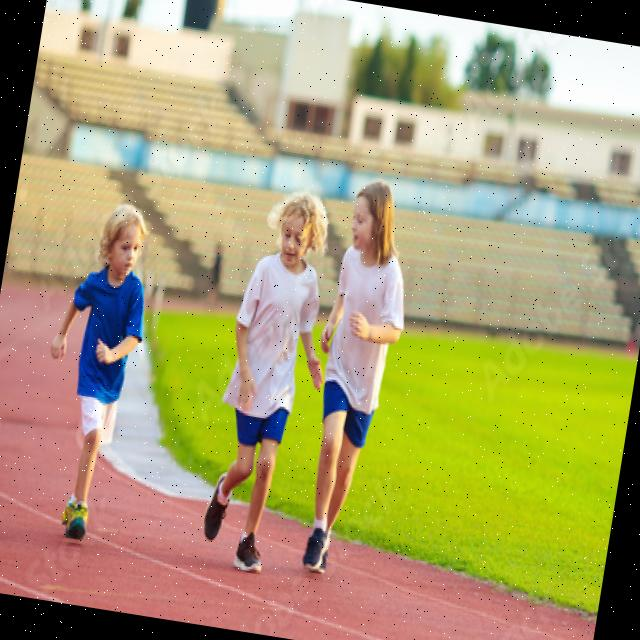Person: (195, 183, 352, 581), (285, 176, 427, 582), (22, 198, 163, 546)
